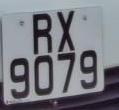0: (30, 52, 59, 99)
7: (54, 49, 81, 98)
9: (4, 53, 33, 103), (77, 47, 101, 95)
R: (27, 9, 57, 57)
X: (54, 7, 81, 55)
